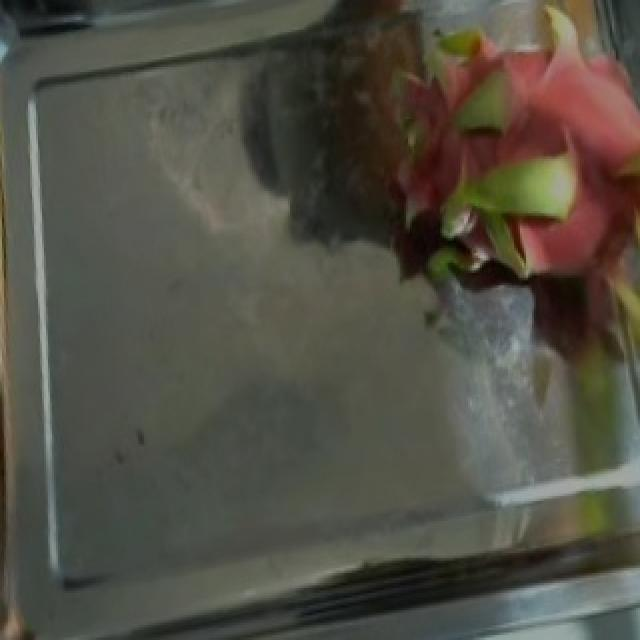fruit: (324, 0, 640, 384)
